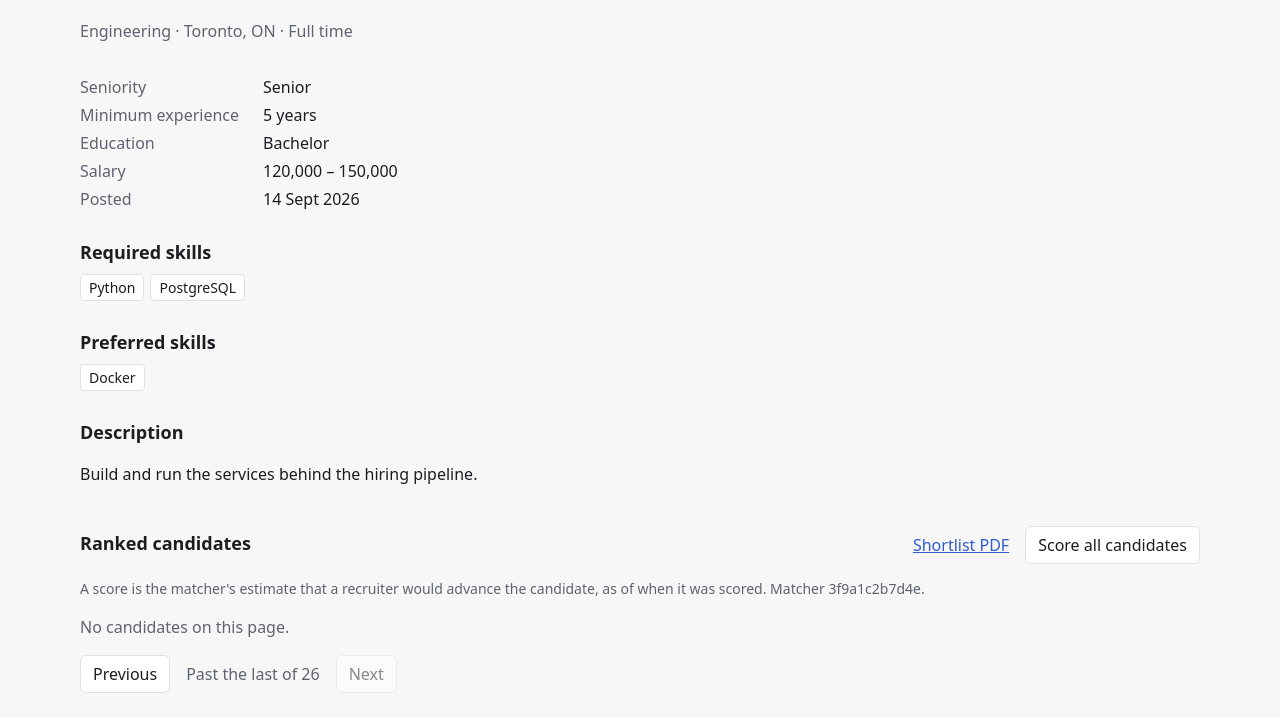
regressions › does not claim rows on a ranking page past the last candidate
The image size is (1280, 717).
(page scrolled)
Expected: the text "No candidates on this page." is shown, [80,616,289,638]
Expected: the text "Past the last of 26" is shown, [186,662,320,686]
What coordinates should you click on to do the following:
click the button "Previous"
I would click on:
 (125, 674)
Its box is [80,655,170,693].
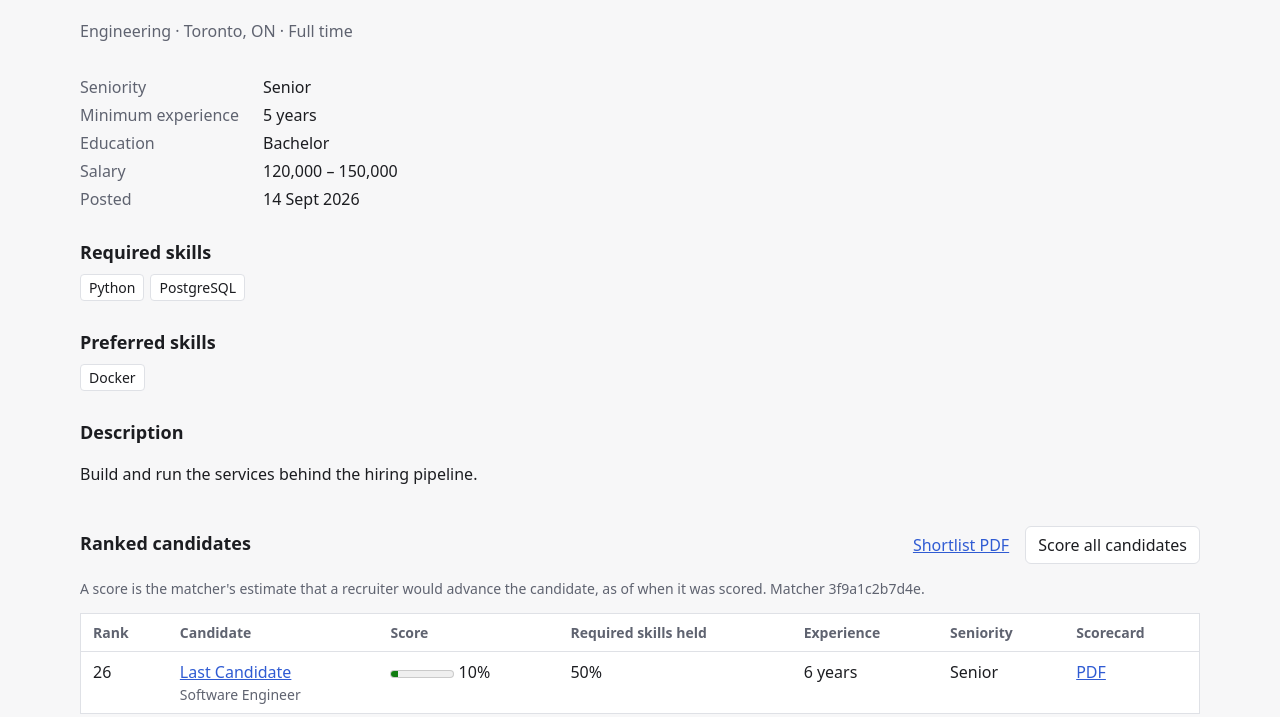
Result: the link "Last Candidate" is shown at [180,661,291,683]
